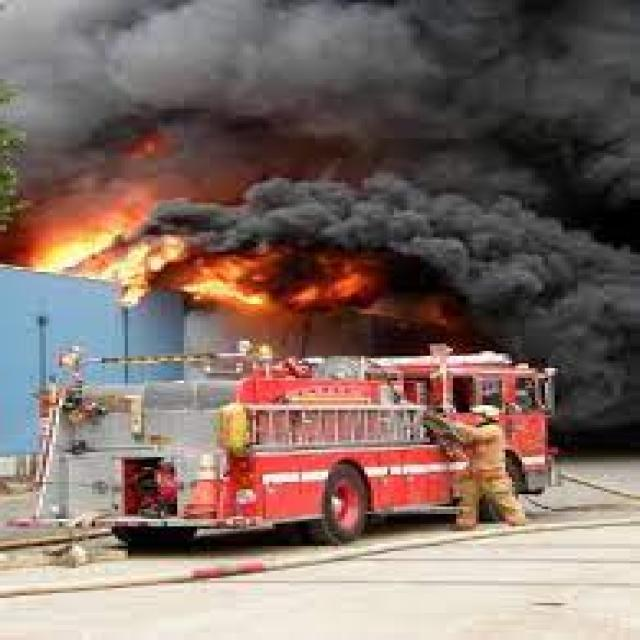Fire: (0, 121, 384, 303)
Smoke: (0, 0, 640, 118), (393, 123, 640, 349)
